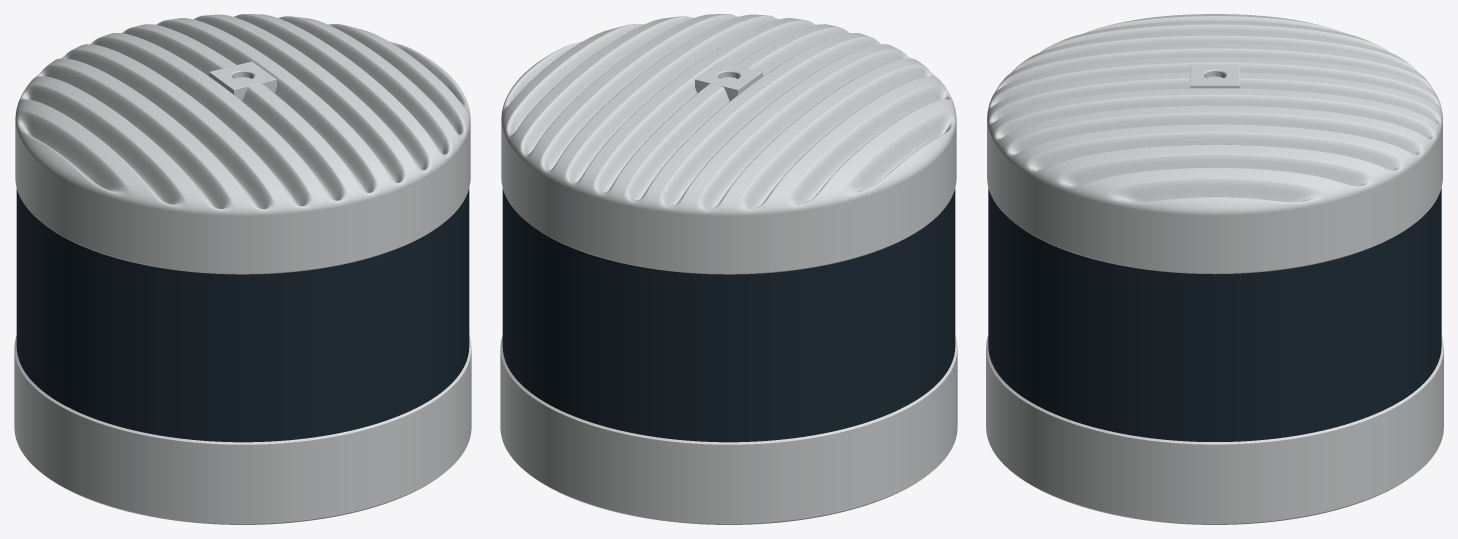
The model's file is velodyne_alpha_prime.glb.
The picture shows the model from 3 angles, left to right: view 1: azimuth 30°, elevation 25°; view 2: azimuth 150°, elevation 25°; view 3: azimuth 270°, elevation 25°; orthographic projection.
Parts seen in each view (by area): view 1: upper_housing_with_12_parallel_top_grooves, optical_window_neutral, base_housing, central_square_land_with_circular_blind_recess; view 2: upper_housing_with_12_parallel_top_grooves, optical_window_neutral, base_housing, central_square_land_with_circular_blind_recess; view 3: upper_housing_with_12_parallel_top_grooves, optical_window_neutral, base_housing, central_square_land_with_circular_blind_recess.
Boxes of the visible parts, <box> form: upper_housing_with_12_parallel_top_grooves: <box>15,14,470,274</box>; optical_window_neutral: <box>16,188,469,442</box>; base_housing: <box>14,335,471,524</box>; central_square_land_with_circular_blind_recess: <box>209,61,276,100</box>; upper_housing_with_12_parallel_top_grooves: <box>501,14,956,274</box>; optical_window_neutral: <box>502,188,955,442</box>; base_housing: <box>500,335,957,524</box>; central_square_land_with_circular_blind_recess: <box>695,61,762,100</box>; upper_housing_with_12_parallel_top_grooves: <box>987,14,1442,274</box>; optical_window_neutral: <box>988,188,1441,441</box>; base_housing: <box>986,335,1443,524</box>; central_square_land_with_circular_blind_recess: <box>1190,64,1239,88</box>.
Bounding box in the file's own units: 0.1655 × 0.1413 × 0.1655.
